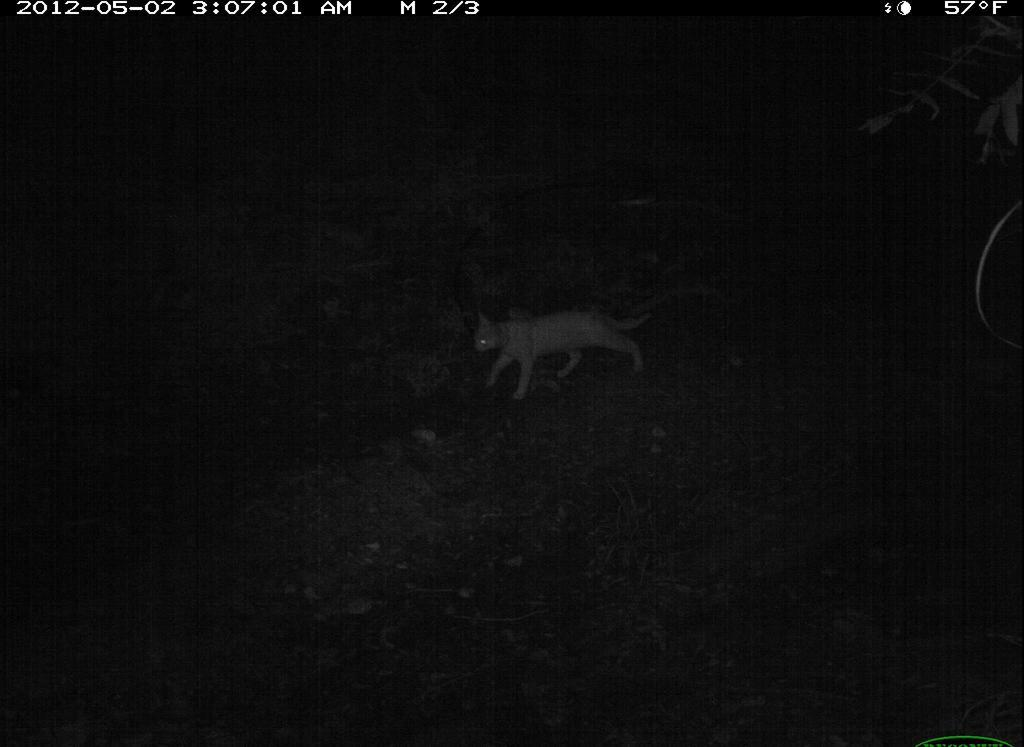cat: (463, 289, 670, 406)
